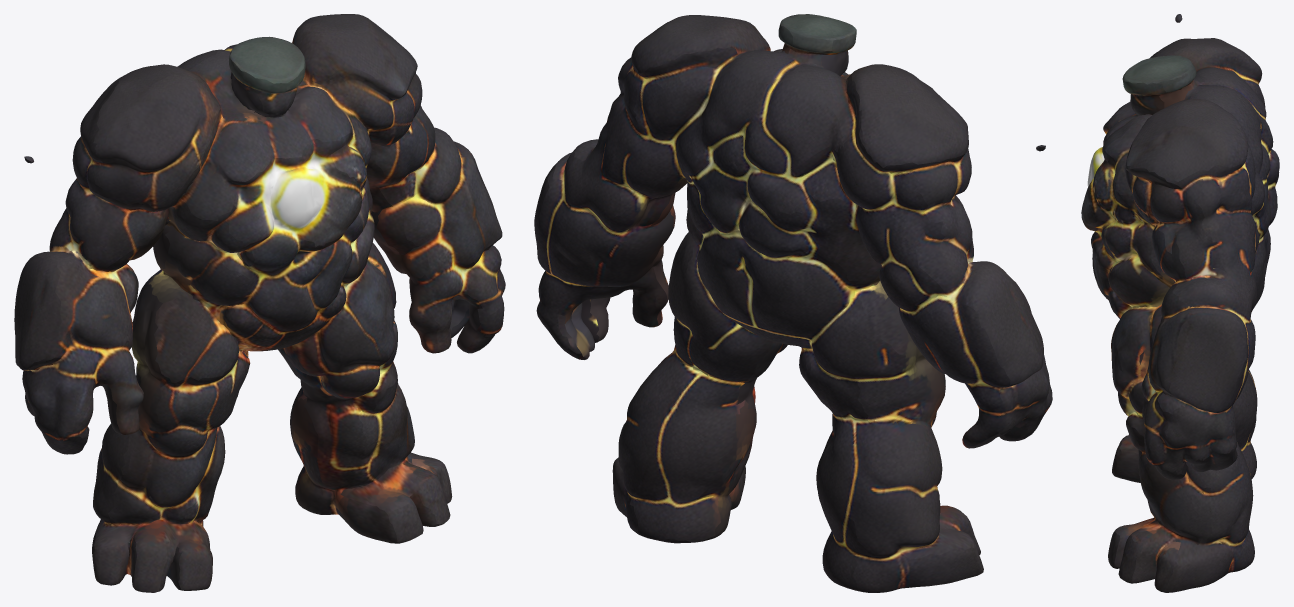
Rendered from lava.glb.
3 views of the same model, side by side, from view 1: azimuth 30°, elevation 25°; view 2: azimuth 150°, elevation 25°; view 3: azimuth 270°, elevation 25° (orthographic). The views are drawn at different scales.
Parts seen in each view (by area): view 1: tmpzhr_ovnj.ply; view 2: tmpzhr_ovnj.ply; view 3: tmpzhr_ovnj.ply.
Boxes of the visible parts, x1=… form: tmpzhr_ovnj.ply: x1=14, y1=14, x2=505, y2=592; tmpzhr_ovnj.ply: x1=534, y1=14, x2=1052, y2=592; tmpzhr_ovnj.ply: x1=1081, y1=14, x2=1279, y2=592.
Bounding box in the file's own units: 1.97 × 1.98 × 0.7846.
1 material, 1 textured.
